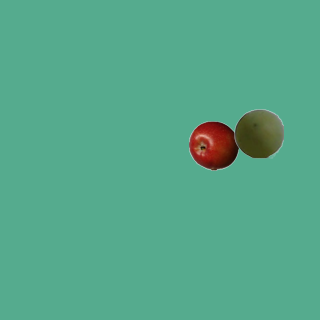Apple Braeburn: (188, 120, 238, 170)
Grape White 4: (233, 108, 283, 158)
